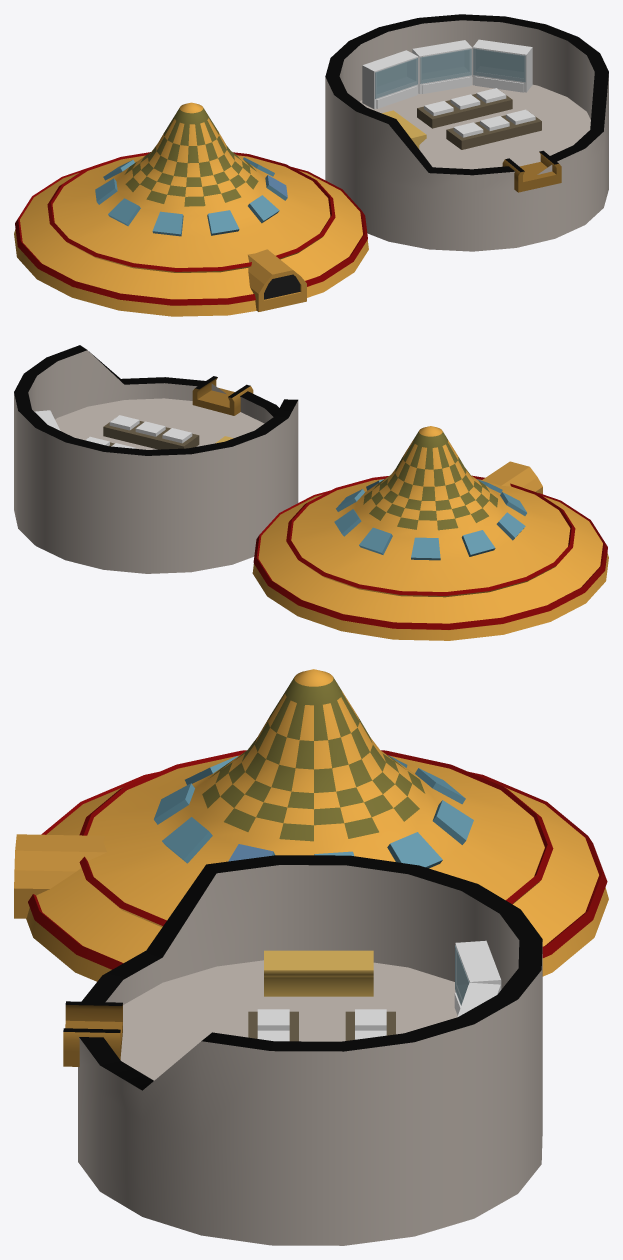
File: insideStore.fbx
3 renders of one model, top to bottom at view 1: azimuth 30°, elevation 25°; view 2: azimuth 150°, elevation 25°; view 3: azimuth 270°, elevation 25°, orthographic. The views are drawn at different scales.
Visible parts, largest first — view 1: pasted__pCone1, ROOM, pCube9 (×3), pCube10 (×3), pCube2 (×2), pasted__pasted__pasted__Tunnel5, pasted__pasted__Tunnel6, PAYHERE; view 2: pasted__pCone1, ROOM, pasted__pasted__Tunnel6, pCube2, pasted__pasted__pasted__Tunnel5; view 3: ROOM, pasted__pCone1, PAYHERE, pasted__pasted__pasted__Tunnel5, pasted__pasted__Tunnel6, pCube9 (×2).
Boxes of the visible parts, box(x1,y1,x2,y2) form: pasted__pCone1: box(14, 102, 368, 316); ROOM: box(325, 14, 608, 251); pCube9 (×3): box(362, 39, 532, 109); pCube10 (×3): box(375, 48, 525, 98); pCube2 (×2): box(417, 93, 541, 149); pasted__pasted__pasted__Tunnel5: box(248, 249, 306, 311); pasted__pasted__Tunnel6: box(502, 150, 561, 192); PAYHERE: box(382, 110, 426, 148); pasted__pCone1: box(252, 426, 608, 640); ROOM: box(14, 345, 298, 573); pasted__pasted__Tunnel6: box(192, 376, 253, 415); pCube2: box(103, 421, 199, 449); pasted__pasted__pasted__Tunnel5: box(481, 461, 542, 494); ROOM: box(78, 855, 542, 1245); pasted__pCone1: box(26, 669, 608, 981); PAYHERE: box(264, 950, 373, 996); pasted__pasted__pasted__Tunnel5: box(14, 834, 106, 918); pasted__pasted__Tunnel6: box(63, 1001, 122, 1066); pCube9 (×2): box(454, 940, 501, 1017).
Size of the model in its own units: 60.68 by 16.36 by 34.33.
